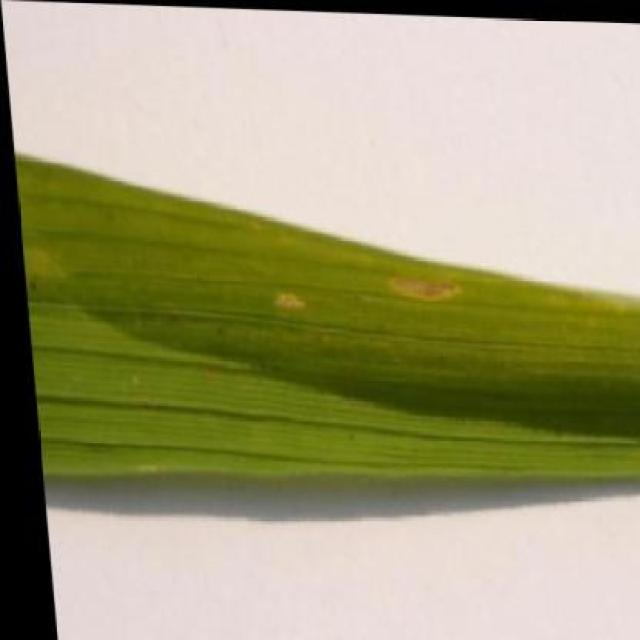Brown_Spot: (9, 145, 640, 500)
